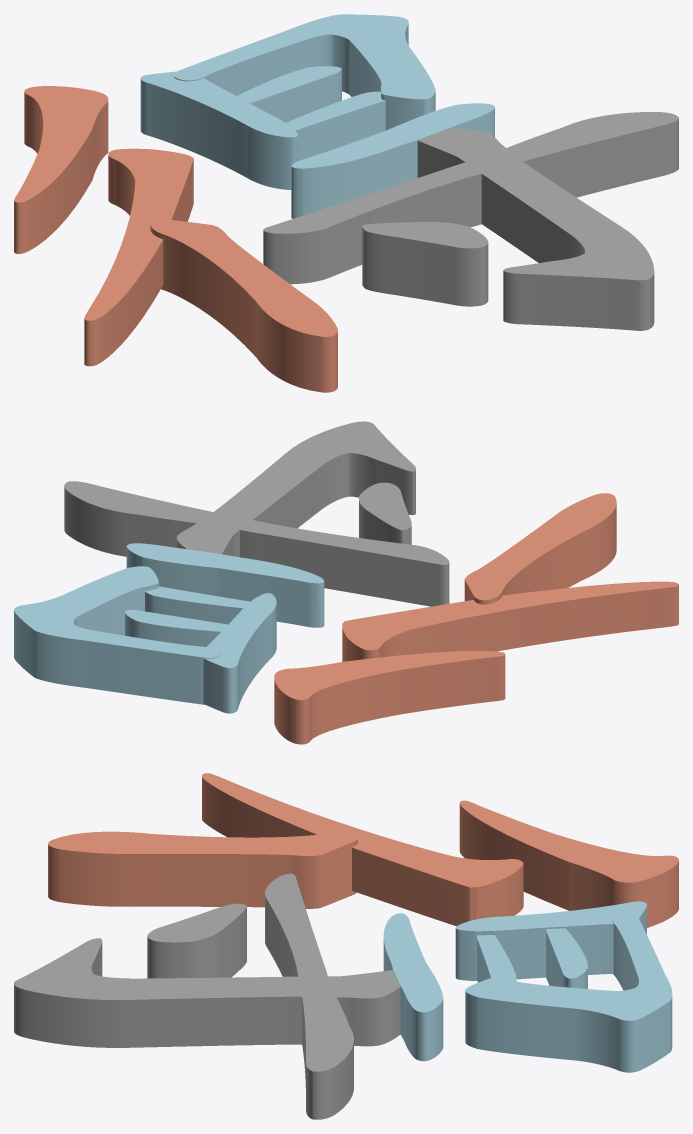
Rendered from hanzi131.fbx.
The picture shows the model from 3 angles, top to bottom: view 1: azimuth 30°, elevation 25°; view 2: azimuth 150°, elevation 25°; view 3: azimuth 270°, elevation 25°; orthographic projection. The views are drawn at different scales.
Visible parts, largest first — view 1: Curve.009, Curve.008, Curve.002, Curve.004, Curve.001, Curve.003, Curve, Curve.010, Curve.007, Curve.006, Curve.005; view 2: Curve.008, Curve.001, Curve.004, Curve, Curve.009, Curve.002, Curve.007, Curve.003, Curve.010, Curve.005, Curve.006; view 3: Curve.009, Curve.002, Curve.004, Curve.001, Curve, Curve.008, Curve.003, Curve.010, Curve.007, Curve.005, Curve.006.
Part boxes in pixels (x1,y1,x2,y2): Curve.009: [417, 129, 654, 330]; Curve.008: [263, 112, 678, 284]; Curve.002: [150, 219, 337, 392]; Curve.004: [173, 14, 435, 130]; Curve.001: [84, 148, 193, 366]; Curve.003: [140, 71, 297, 189]; Curve: [14, 86, 108, 253]; Curve.010: [362, 222, 488, 306]; Curve.007: [291, 103, 494, 218]; Curve.006: [286, 91, 385, 160]; Curve.005: [237, 66, 341, 122]; Curve.008: [64, 481, 449, 606]; Curve.001: [342, 581, 678, 661]; Curve.004: [14, 566, 219, 704]; Curve: [274, 651, 505, 744]; Curve.009: [176, 421, 415, 557]; Curve.002: [464, 493, 616, 604]; Curve.007: [126, 543, 324, 627]; Curve.003: [203, 593, 276, 713]; Curve.010: [359, 482, 411, 544]; Curve.005: [125, 609, 227, 646]; Curve.006: [145, 586, 249, 624]; Curve.009: [14, 938, 400, 1047]; Curve.002: [48, 831, 357, 908]; Curve.004: [465, 913, 672, 1072]; Curve.001: [202, 773, 523, 926]; Curve: [459, 800, 678, 927]; Curve.008: [265, 873, 353, 1119]; Curve.003: [455, 901, 646, 980]; Curve.010: [147, 903, 246, 978]; Curve.007: [383, 913, 443, 1061]; Curve.005: [546, 928, 587, 988]; Curve.006: [477, 935, 516, 982].
Size of the model in its own units: 25.87 by 24.15 by 2.21.
